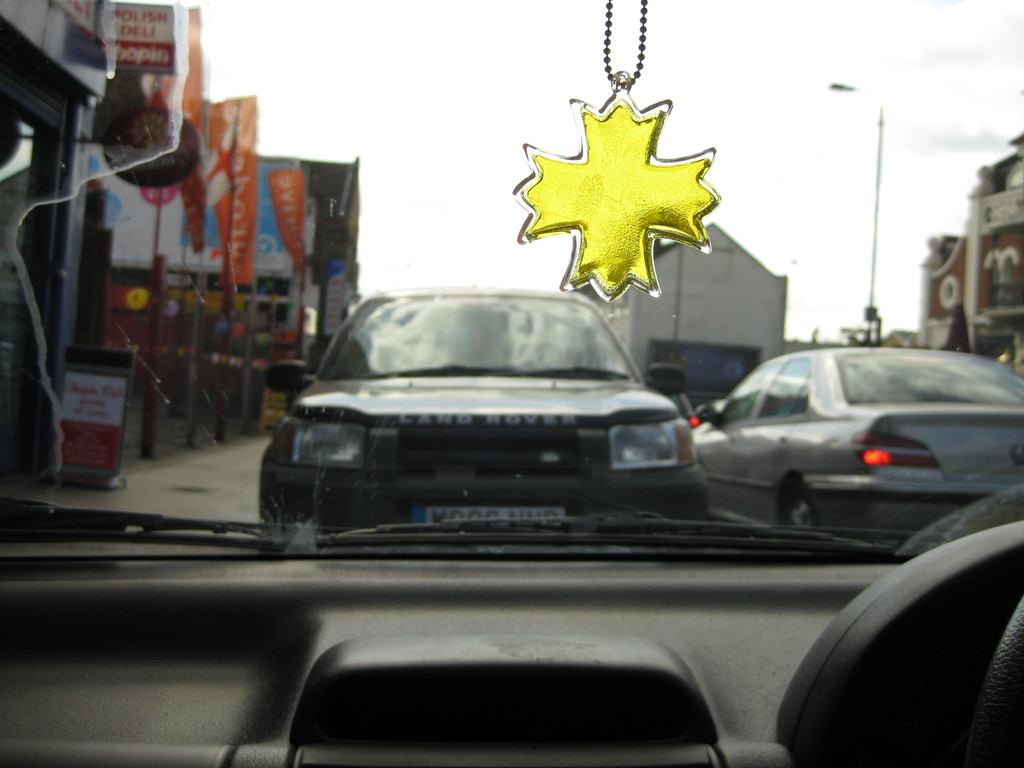Car: (0, 0, 1023, 767), (256, 284, 716, 533), (696, 339, 1023, 537)
